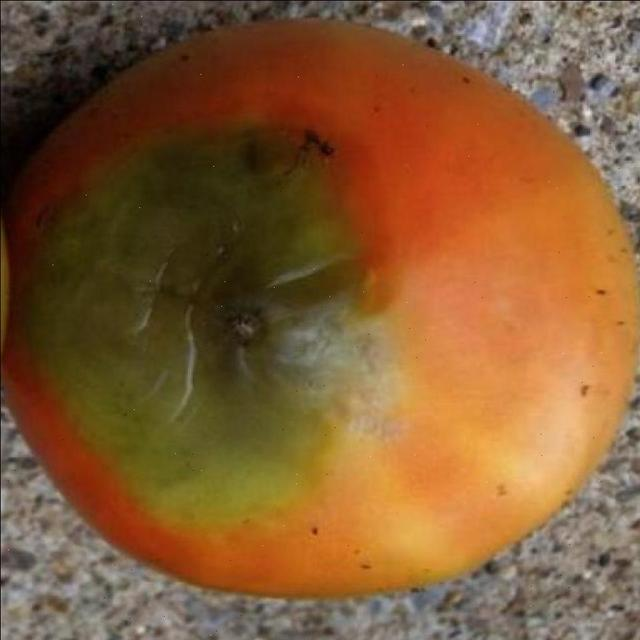Blossom End Rot Fruit: (18, 79, 262, 358)
